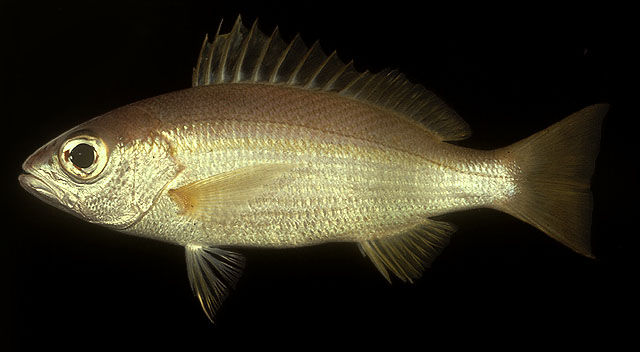fish: (18, 16, 606, 323)
